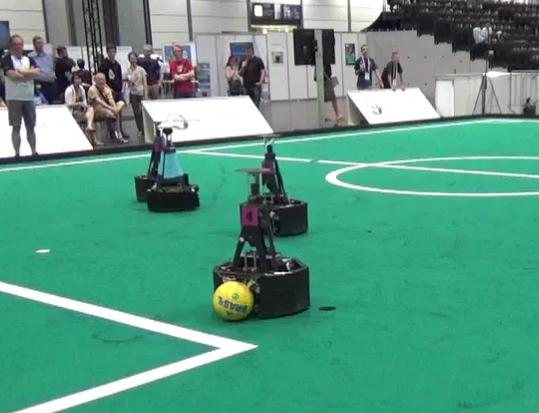robot: (211, 164, 315, 320), (145, 117, 210, 215)
